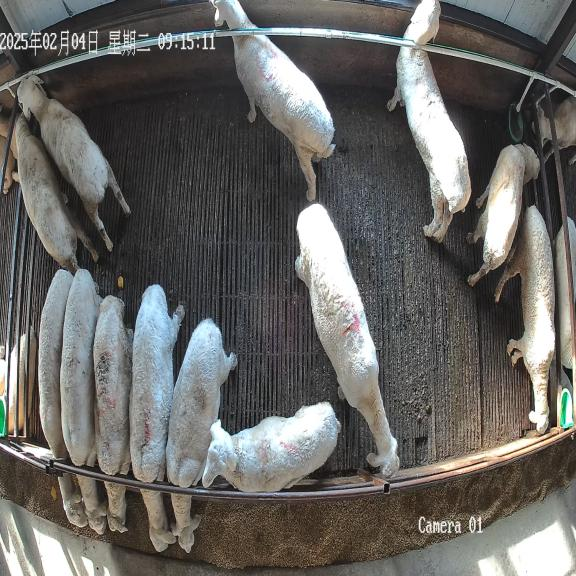drinking: (14, 115, 98, 274)
eating: (166, 318, 237, 553), (130, 284, 185, 553), (38, 270, 88, 528), (60, 269, 107, 534), (93, 295, 133, 533)
stand: (295, 203, 399, 478), (210, 0, 335, 201), (387, 0, 471, 242), (17, 75, 130, 251), (495, 206, 555, 432), (202, 402, 340, 492), (468, 144, 539, 285)
